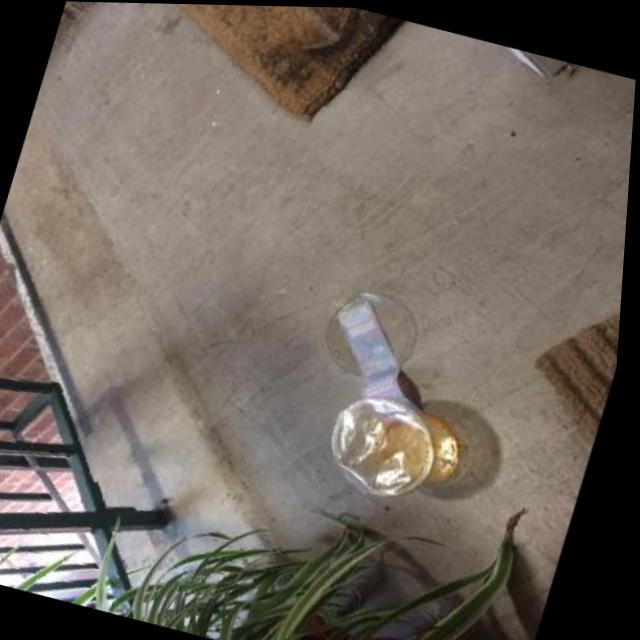plastic: (277, 281, 505, 515)
